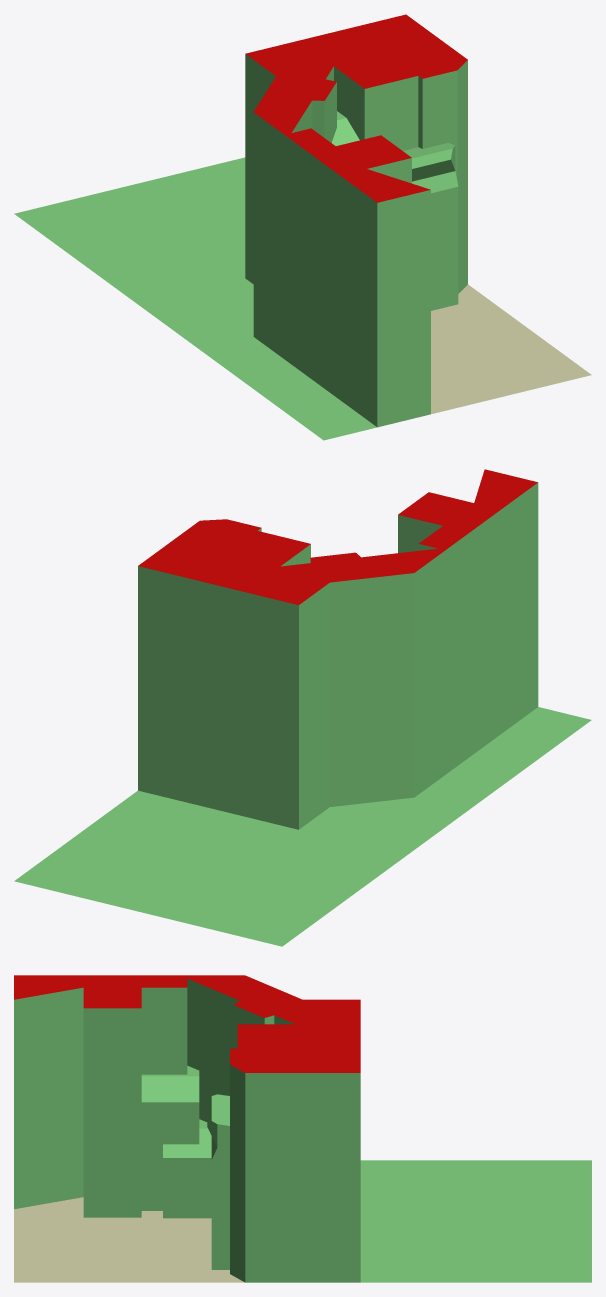
Rendered from x_oo_ground_33_1_rmstrd.fbx.
3 renders of one model, top to bottom at view 1: azimuth 30°, elevation 25°; view 2: azimuth 150°, elevation 25°; view 3: azimuth 270°, elevation 25°, orthographic. The views are drawn at different scales.
Visible parts, largest first — view 1: x_oo_ground_33_1_rmstrd1; view 2: x_oo_ground_33_1_rmstrd1; view 3: x_oo_ground_33_1_rmstrd1.
Boxes of the visible parts, x1,y1,x2,y2 form: x_oo_ground_33_1_rmstrd1: (14,14,591,440); x_oo_ground_33_1_rmstrd1: (14,469,591,946); x_oo_ground_33_1_rmstrd1: (14,975,591,1282).
Bounding box in the file's own units: 5 × 4 × 10.
